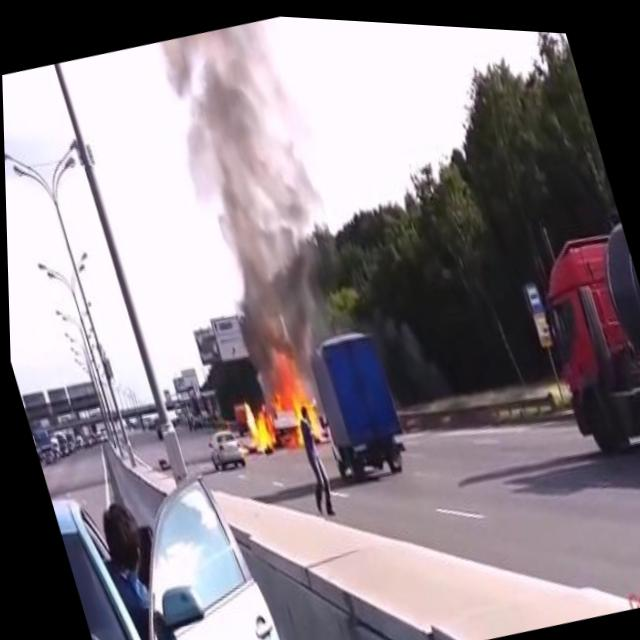fire: (234, 385, 274, 449), (285, 382, 322, 438), (265, 382, 284, 413)
